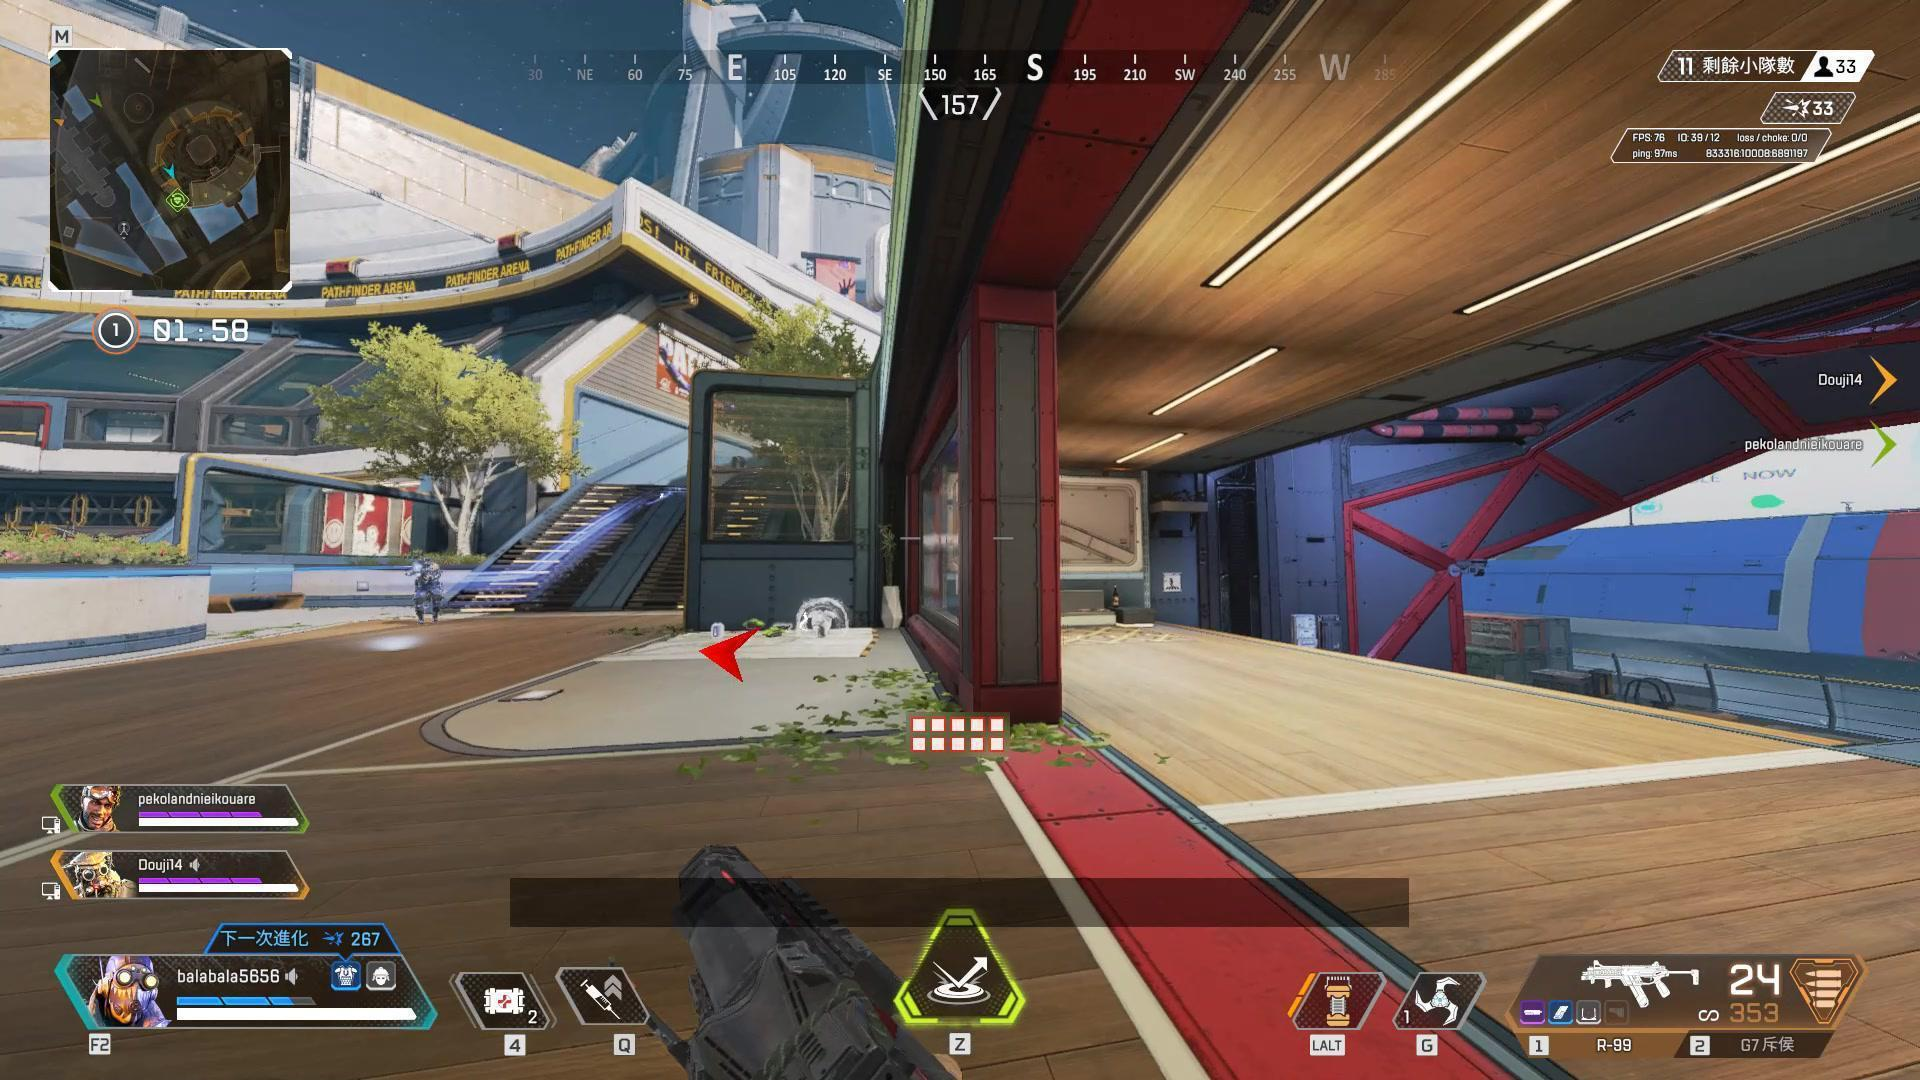avatar: (403, 556, 448, 625)
